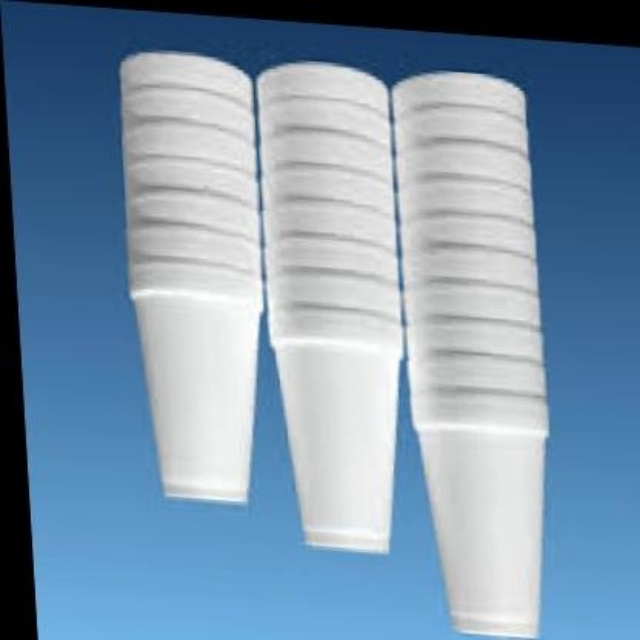trash: (122, 52, 546, 635), (394, 72, 546, 637), (258, 63, 398, 551), (122, 52, 260, 500)
